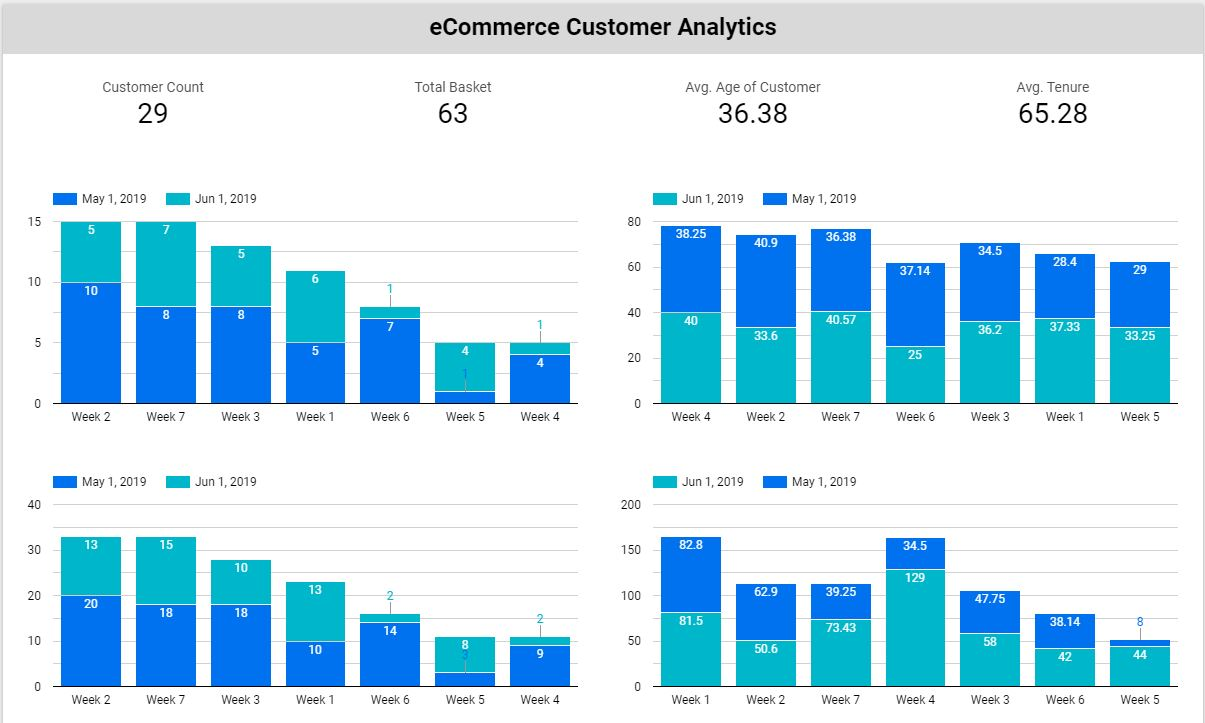

Layout of this report page (visuals, bound fields, positions):
{"tool":"powerbi","page":{"name":"Page 1","canvas":[1280,720],"ordinal":0},"visuals":[{"type":"textbox","box":[0,0,1280,48.6],"z":0},{"type":"clusteredColumnChart","fields":{"Category":["ecommerce_customer_combined.basket_weekday"],"Y":["ecommerce_customer_combined.Customer Count"],"Series":["ecommerce_customer_combined.basket_year_month"]},"box":[16.1,157.5,623.9,276.9],"z":1000},{"type":"clusteredColumnChart","fields":{"Category":["ecommerce_customer_combined.basket_weekday"],"Series":["ecommerce_customer_combined.basket_year_month"],"Y":["ecommerce_customer_combined.Avg Age of Customer"]},"box":[640,157.5,623.9,276.9],"z":2000},{"type":"clusteredColumnChart","fields":{"Category":["ecommerce_customer_combined.basket_weekday"],"Series":["ecommerce_customer_combined.basket_year_month"],"Y":["ecommerce_customer_combined.Avg Tenure"]},"box":[640,434.4,623.9,271.8],"z":3000},{"type":"clusteredColumnChart","fields":{"Category":["ecommerce_customer_combined.basket_weekday"],"Series":["ecommerce_customer_combined.basket_year_month"],"Y":["ecommerce_customer_combined.Total Baskets"]},"box":[16.1,434.4,623.9,271.8],"z":4000},{"type":"card","fields":{"Values":["ecommerce_customer_combined.Customer Count"]},"box":[16.1,48.2,312,109.3],"z":5000},{"type":"card","fields":{"Values":["ecommerce_customer_combined.Total Baskets"]},"box":[328,48.2,312,109.3],"z":5001},{"type":"card","fields":{"Values":["ecommerce_customer_combined.Avg Age of Customer"]},"box":[640,48.2,312,109.3],"z":5002},{"type":"card","fields":{"Values":["ecommerce_customer_combined.Avg Tenure"]},"box":[952,48.2,312,109.3],"z":5003}]}

Visuals, with their boxes on the page's 1280x720 design canvas (x1, y1, x2, y2). These are canvas units, not pixel positions in the 1205x723 screenshot, which may show the page scaled, cropped or inside an application window:
textbox: x1=0 y1=0 x2=1280 y2=49
clusteredColumnChart - ecommerce_customer_combined.basket_weekday x ecommerce_customer_combined.Customer Count: x1=16 y1=158 x2=640 y2=434
clusteredColumnChart - ecommerce_customer_combined.basket_weekday x ecommerce_customer_combined.basket_year_month: x1=640 y1=158 x2=1264 y2=434
clusteredColumnChart - ecommerce_customer_combined.basket_weekday x ecommerce_customer_combined.basket_year_month: x1=640 y1=434 x2=1264 y2=706
clusteredColumnChart - ecommerce_customer_combined.basket_weekday x ecommerce_customer_combined.basket_year_month: x1=16 y1=434 x2=640 y2=706
card - ecommerce_customer_combined.Customer Count: x1=16 y1=48 x2=328 y2=158
card - ecommerce_customer_combined.Total Baskets: x1=328 y1=48 x2=640 y2=158
card - ecommerce_customer_combined.Avg Age of Customer: x1=640 y1=48 x2=952 y2=158
card - ecommerce_customer_combined.Avg Tenure: x1=952 y1=48 x2=1264 y2=158
